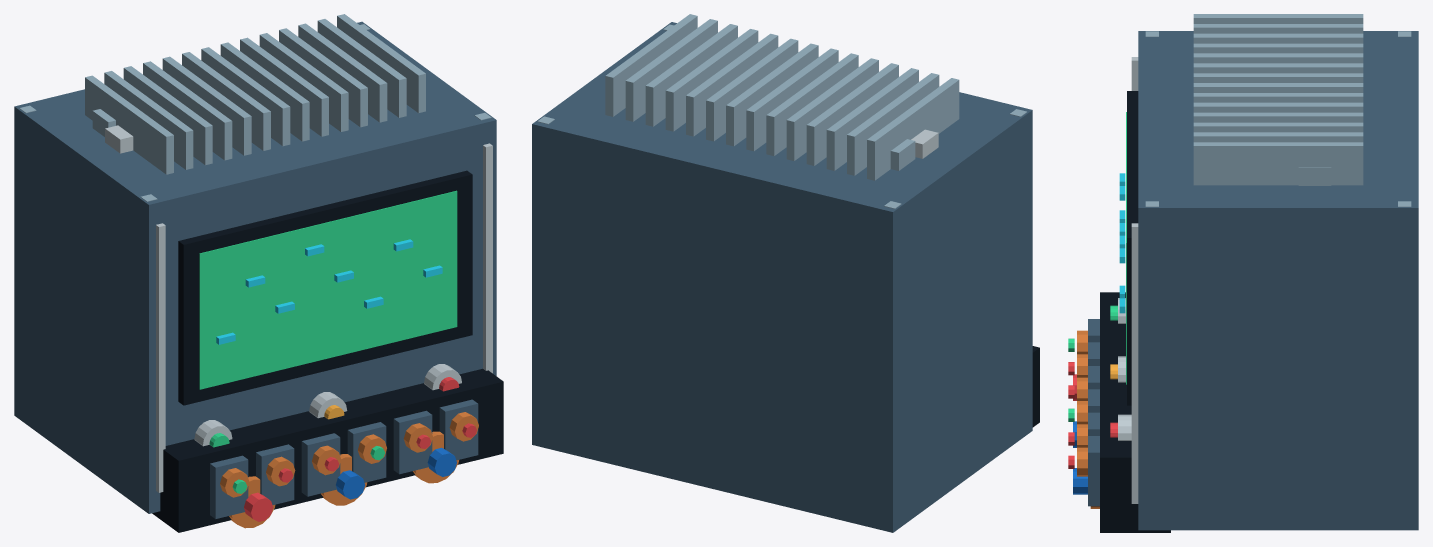
File: 55_L74_Regulated5VControlSupply.fbx
3 renders of one model, left to right at view 1: azimuth 30°, elevation 25°; view 2: azimuth 150°, elevation 25°; view 3: azimuth 270°, elevation 25°, orthographic. The views are drawn at different scales.
Visible parts, largest first — view 1: Regulated5VControlSupply; view 2: Regulated5VControlSupply; view 3: Regulated5VControlSupply.
Boxes of the visible parts, x1,y1,x2,y2 form: Regulated5VControlSupply: [14, 14, 503, 532]; Regulated5VControlSupply: [532, 14, 1039, 532]; Regulated5VControlSupply: [1068, 14, 1418, 532].
Bounding box in the file's own units: 106 × 106 × 88.71.
